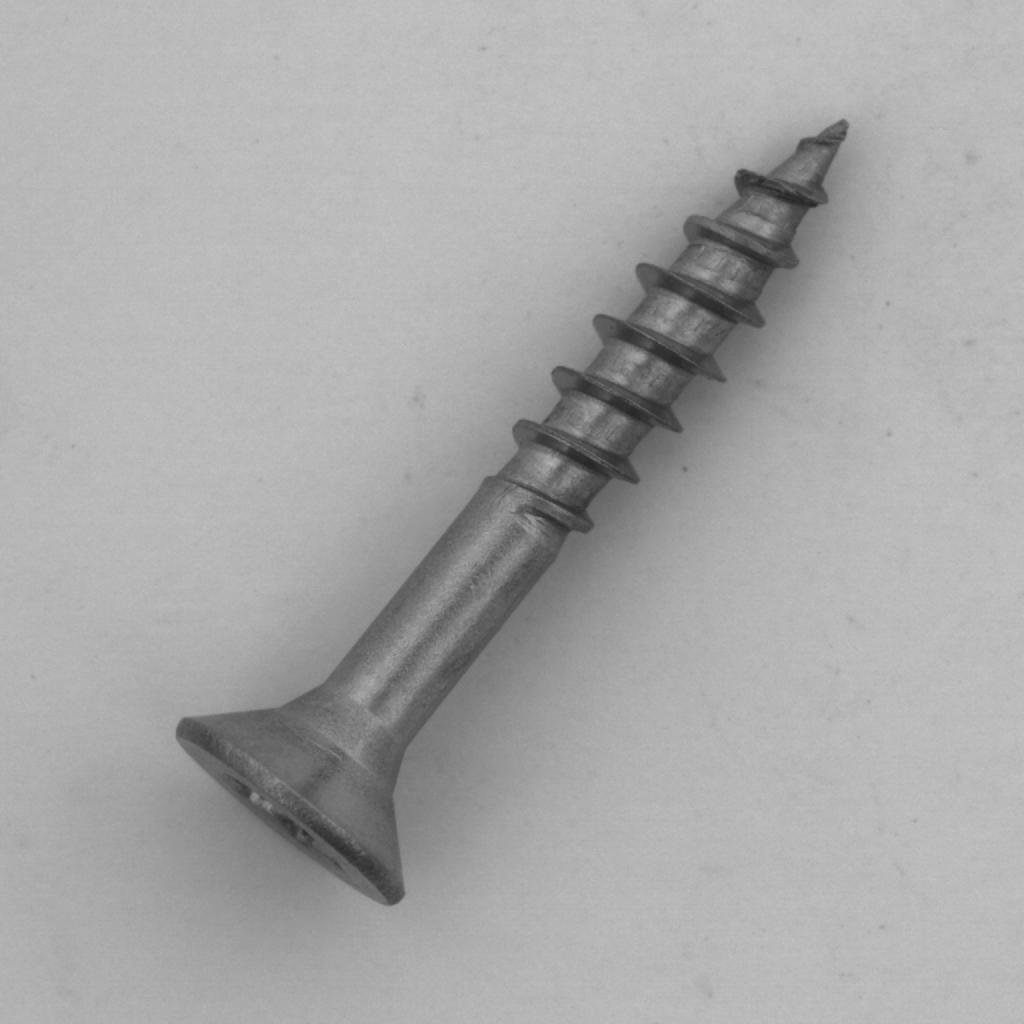good: (160, 94, 871, 917)
